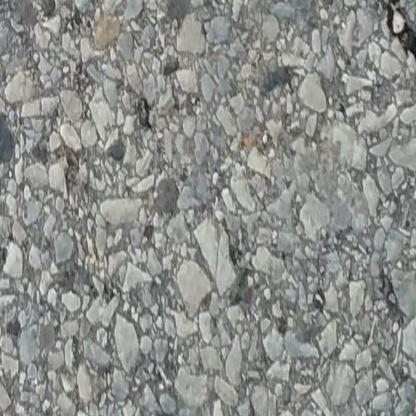Cracks: (377, 0, 416, 99)
